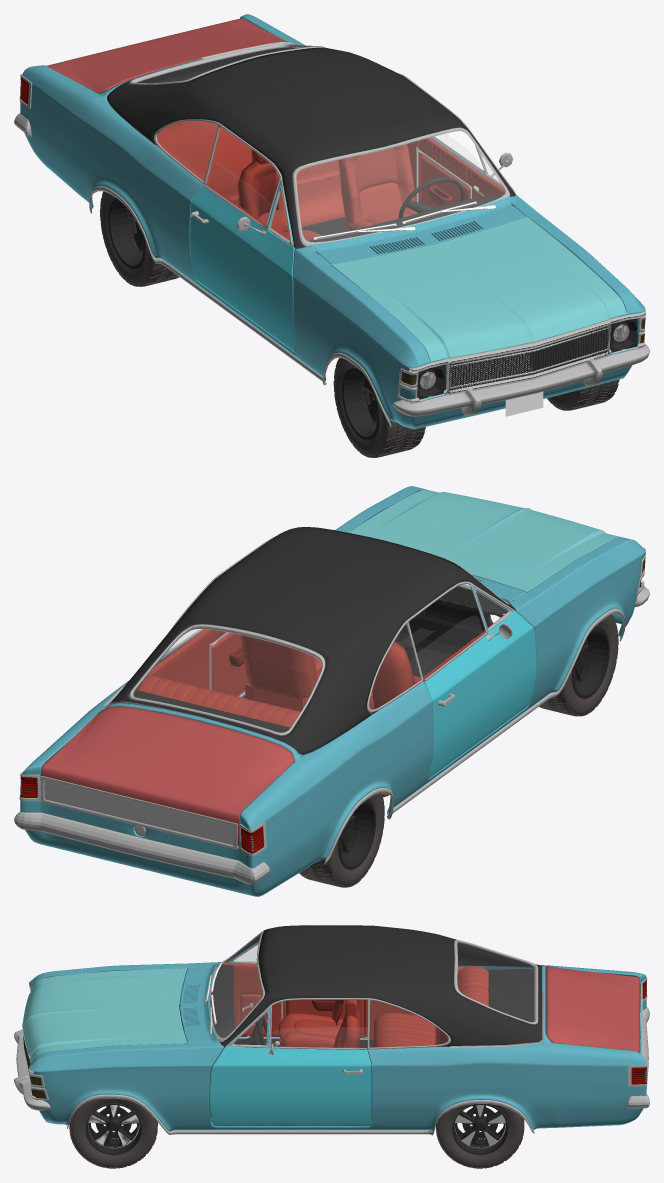
The picture shows the model from 3 angles, top to bottom: view 1: azimuth 30°, elevation 25°; view 2: azimuth 150°, elevation 25°; view 3: azimuth 270°, elevation 25°; orthographic projection. The views are drawn at different scales.
Visible parts, largest first — view 1: lataria_94, teto_65, capo_95, lataria.011_57, porta_93, Plane.009_78, porta malas_92, Plane.008_79, lataria.003_69, Plane.015_26, Plane.028_29, porta.001_91 (+14 smaller); view 2: lataria_94, teto_65, porta malas_92, capo_95, porta_93, lataria.004_68, lataria.006_66, Plane.008_79, porta.007_2, Plane.009_78, porta.002_90, Plane.035_7 (+12 smaller); view 3: lataria_94, teto_65, porta_93, capo_95, porta malas_92, lataria.011_57, Plane.009_78, porta.001_91, Plane.027_34, porta.007_2, Plane.016_23, lataria.018_32 (+19 smaller).
Boxes of the visible parts, x1,y1,x2,y2 form: lataria_94: (20,14,645,429); teto_65: (107,47,515,248); capo_95: (331,216,626,361); lataria.011_57: (296,127,504,241); porta_93: (190,137,497,352); Plane.009_78: (156,121,344,231); porta malas_92: (46,18,288,93); Plane.008_79: (338,144,415,223); lataria.003_69: (393,343,649,416); Plane.015_26: (448,324,609,392); Plane.028_29: (407,310,645,403); porta.001_91: (207,137,505,248); lataria_94: (20,486,645,896); teto_65: (109,527,515,754); porta malas_92: (41,706,294,845); capo_95: (348,489,619,592); porta_93: (424,585,536,778); lataria.004_68: (19,770,266,856); lataria.006_66: (14,811,269,884); Plane.008_79: (241,635,317,698); porta.007_2: (133,619,478,796); Plane.009_78: (137,675,300,727); porta.002_90: (148,629,388,795); Plane.035_7: (299,793,384,887); lataria_94: (29,962,646,1131); teto_65: (216,925,541,1046); porta_93: (209,941,371,1126); capo_95: (22,968,187,1061); porta malas_92: (546,966,639,1052); lataria.011_57: (210,934,262,1037); Plane.009_78: (374,966,488,1047); porta.001_91: (223,962,367,1048); Plane.027_34: (69,1098,157,1168); porta.007_2: (210,969,546,1118); Plane.016_23: (436,1104,524,1168); lataria.018_32: (67,1094,534,1135).
Size of the model in its own units: 2.45 by 1.88 by 6.24.
17 materials, 1 textured.
